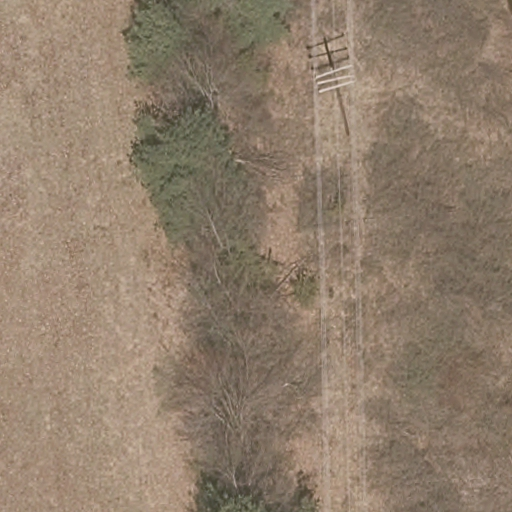DT: (315, 62, 354, 135)
